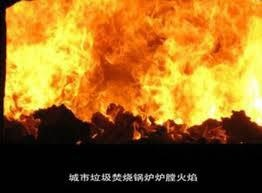fire: (0, 4, 256, 132)
